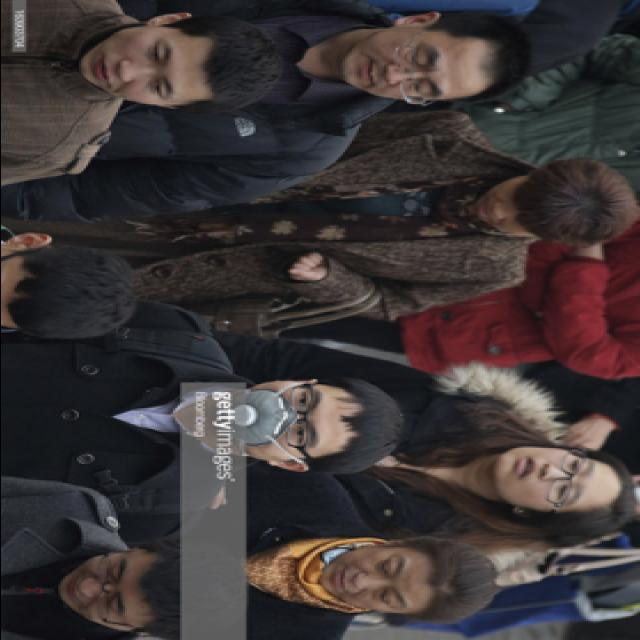mask: (216, 378, 328, 462)
no_mask: (78, 27, 184, 109), (336, 27, 450, 101), (491, 443, 603, 514), (322, 546, 418, 614), (60, 552, 142, 627), (475, 178, 537, 236)
